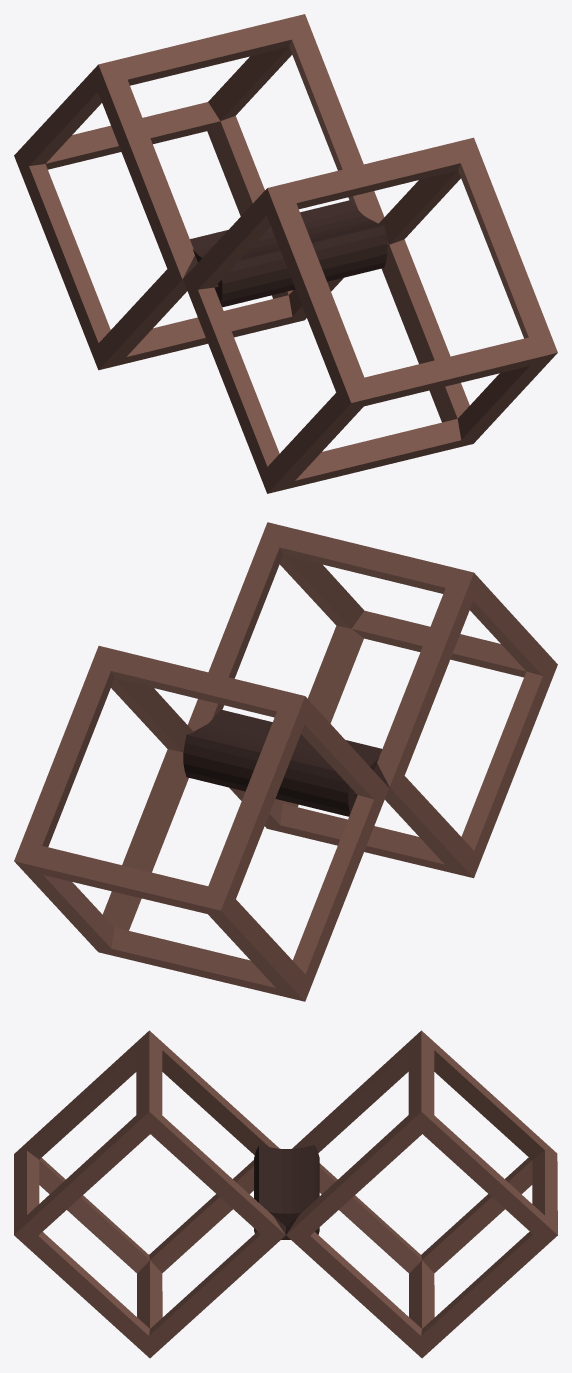
File: Wine holder (wood 2).fbx
3 renders of one model, top to bottom at view 1: azimuth 30°, elevation 25°; view 2: azimuth 150°, elevation 25°; view 3: azimuth 270°, elevation 25°, orthographic. The views are drawn at different scales.
Parts seen in each view (by area): view 1: Cube.017; view 2: Cube.017; view 3: Cube.017.
Part boxes in pixels (x1,y1,x2,y2): Cube.017: (14,14,557,493); Cube.017: (14,522,557,1001); Cube.017: (14,1030,557,1358).
Bounding box in the file's own units: 0.3168 × 0.449 × 0.8964.
